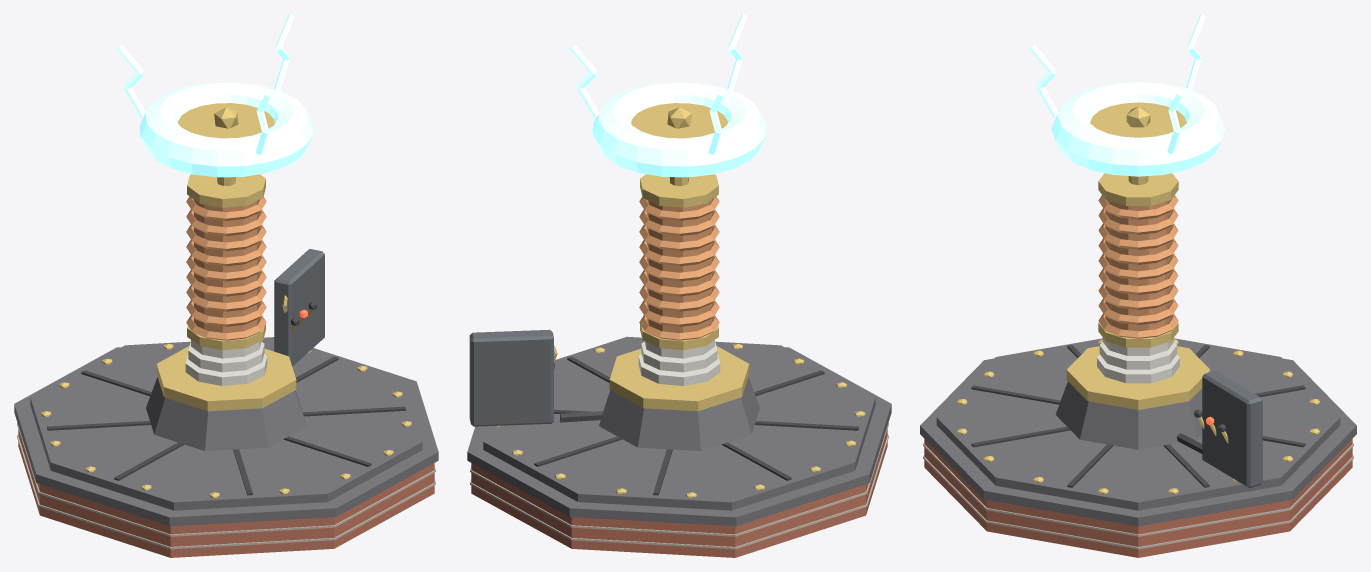
File: tesla_coil.glb
3 renders of one model, left to right at view 1: azimuth 30°, elevation 25°; view 2: azimuth 150°, elevation 25°; view 3: azimuth 270°, elevation 25°, orthographic.
Parts seen in each view (by area): view 1: Cylinder.083, Cylinder.079, Torus.015, Cylinder.082, Cone.011, Cylinder.090, Cube.079, Cylinder.097, Cylinder.101, Cylinder.099, Cylinder.080, Cylinder.081 (+16 smaller); view 2: Cylinder.083, Cylinder.079, Torus.015, Cylinder.082, Cube.079, Cone.011, Cylinder.090, Cylinder.097, Cylinder.101, Cylinder.099, Cylinder.080, Cylinder.081 (+16 smaller); view 3: Cylinder.083, Cylinder.079, Torus.015, Cylinder.082, Cone.011, Cube.079, Cylinder.090, Cylinder.097, Cylinder.101, Cylinder.099, Cylinder.081, Cylinder.080 (+15 smaller).
Part boxes in pixels (x1,y1,x2,y2): Cylinder.083: (30,337,422,510); Cylinder.079: (18,429,434,557); Torus.015: (139,82,313,177); Cylinder.082: (14,347,438,526); Cone.011: (146,377,306,450); Cylinder.090: (156,346,296,411); Cube.079: (274,249,324,366); Cylinder.097: (194,200,258,332); Cylinder.101: (178,103,274,138); Cylinder.099: (187,174,265,207); Cylinder.080: (17,435,435,549); Cylinder.081: (17,422,435,536); Cylinder.083: (483,336,875,510); Cylinder.079: (471,429,887,557); Torus.015: (592,82,766,177); Cylinder.082: (467,347,891,526); Cube.079: (469,329,553,426); Cone.011: (599,377,759,450); Cylinder.090: (609,346,749,411); Cylinder.097: (647,200,711,332); Cylinder.101: (631,103,727,138); Cylinder.099: (640,174,718,207); Cylinder.080: (470,435,888,549); Cylinder.081: (470,422,888,536); Cylinder.083: (936,338,1340,510); Cylinder.079: (924,439,1352,557); Torus.015: (1051,81,1225,176); Cylinder.082: (920,358,1356,526); Cone.011: (1055,381,1202,449); Cube.079: (1202,370,1262,488); Cylinder.090: (1066,346,1210,409); Cylinder.097: (1105,200,1171,331); Cylinder.101: (1090,102,1186,137); Cylinder.099: (1098,173,1178,205); Cylinder.081: (923,443,1353,536); Cylinder.080: (923,455,1353,549).
Size of the model in its own units: 3.16 by 3.34 by 3.16.
